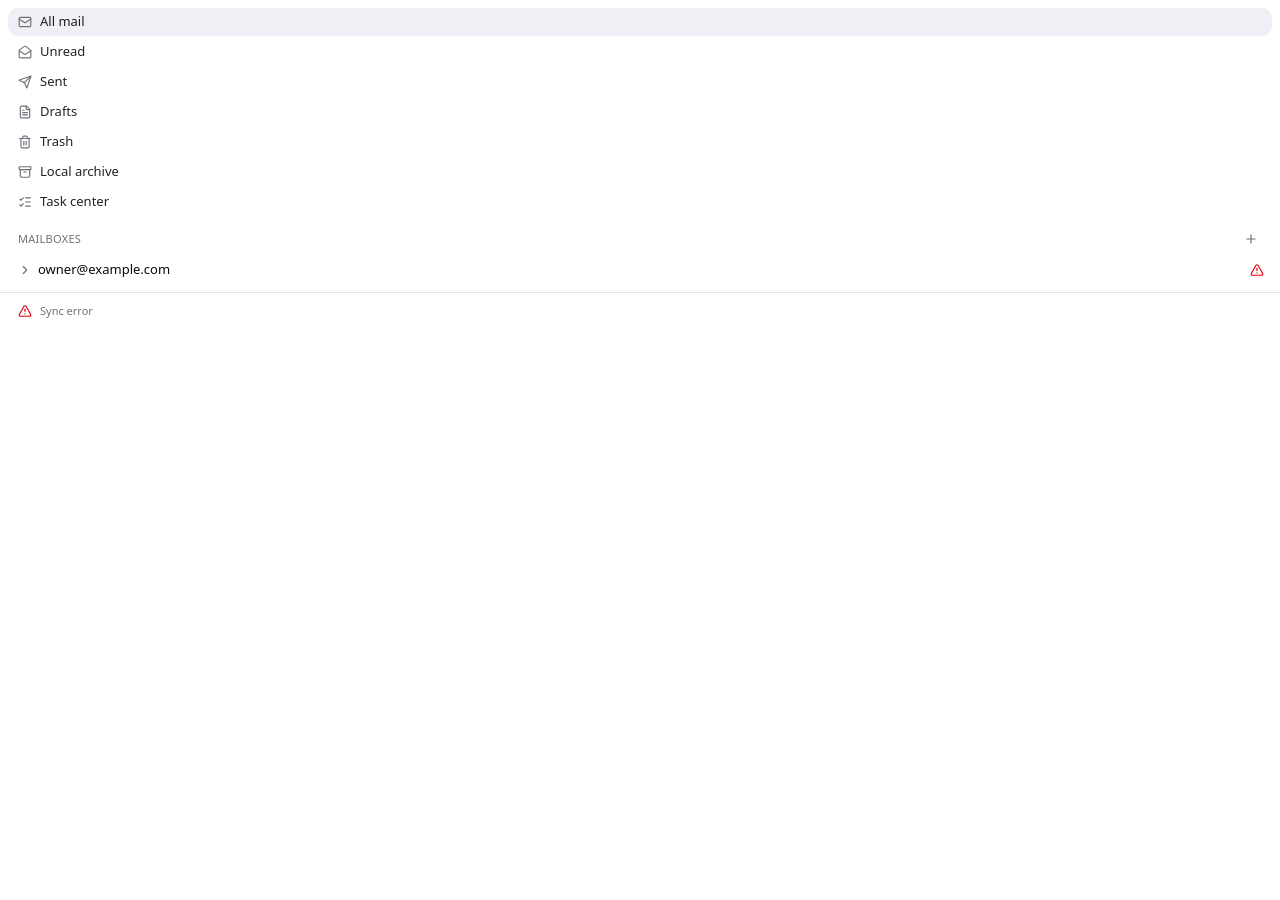
it: Sidebar sync failures › reports an account level failure with its message
expect the text "owner@example.com" is shown: met, box [38, 260, 170, 278]
Click the button named "Sync error for owner@example.com".
click(1257, 270)  # box [1246, 259, 1268, 281]
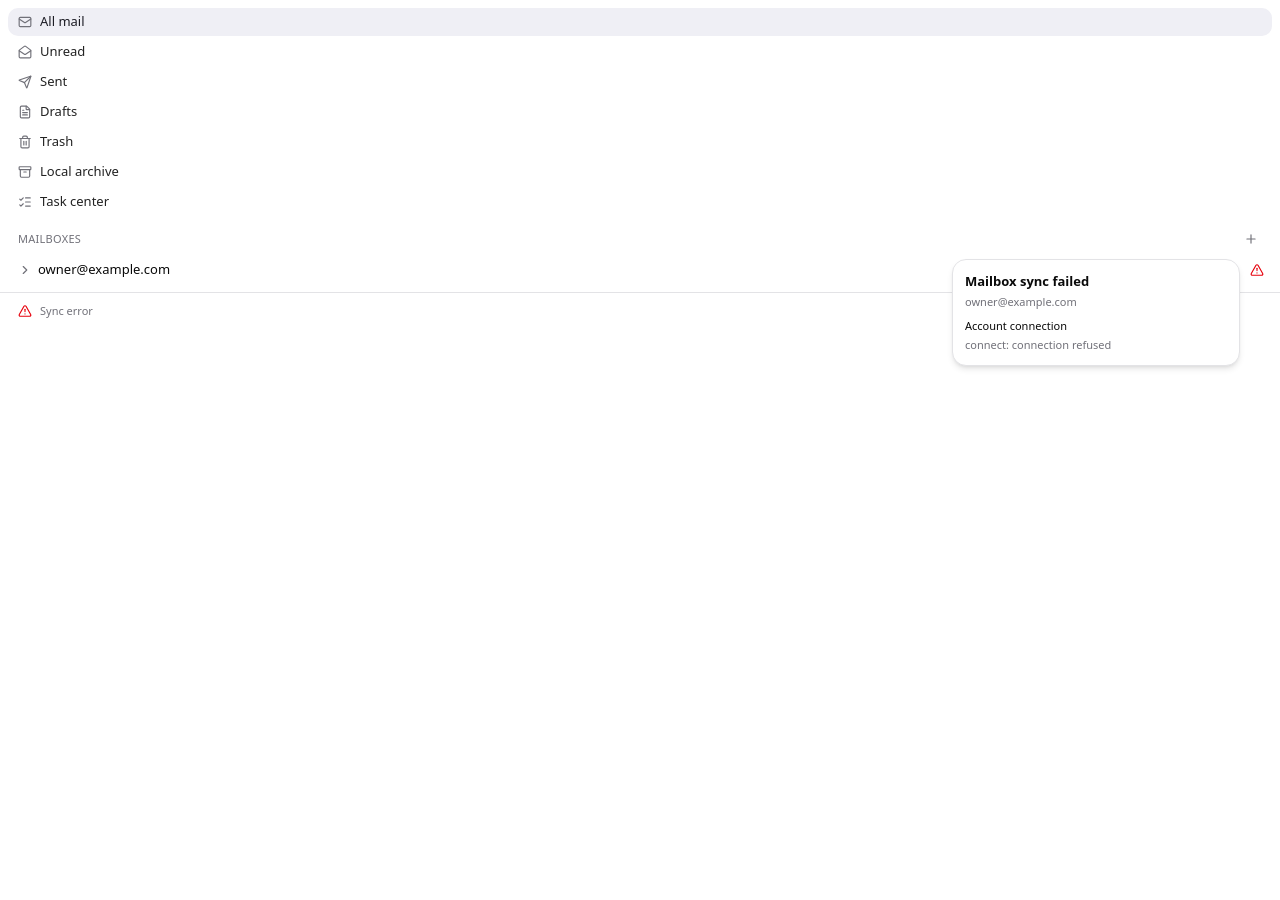
expect the text "Account connection" is shown: met, box [965, 318, 1067, 333]
expect the text "connect: connection refused" is shown: met, box [965, 336, 1111, 352]
